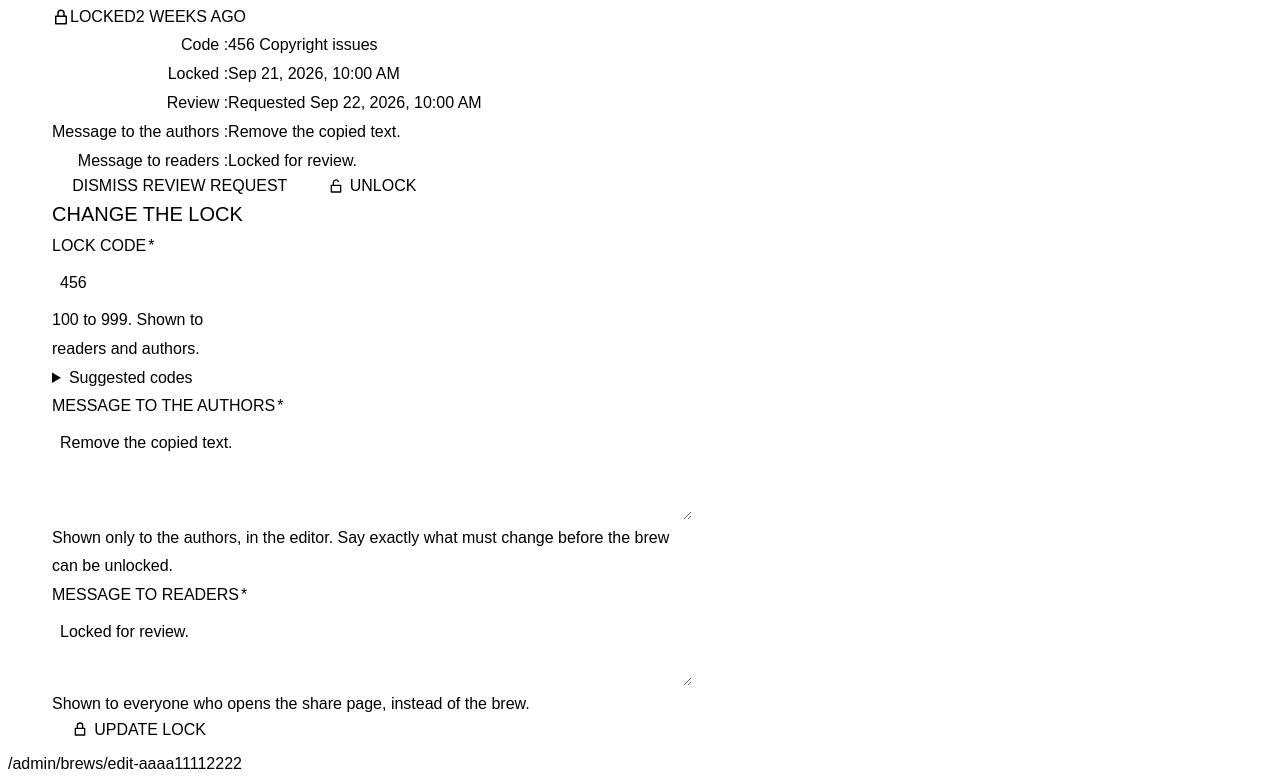
Scenario: lock tools › changes an existing lock (prefilled with it) and clears the review request
This screenshot has width=1280, height=781.
(page scrolled)
Check: the text with test id "admin-lock-code" reads "456 Copyright issues", box [228,36,378,53]
Check: the element with test id "admin-lock-review" shows "Requested", box [228,94,310,111]
Replace the text in the text box labelled "Message to readers*" with "Still locked." at (372, 650), box [52,614,692,686]
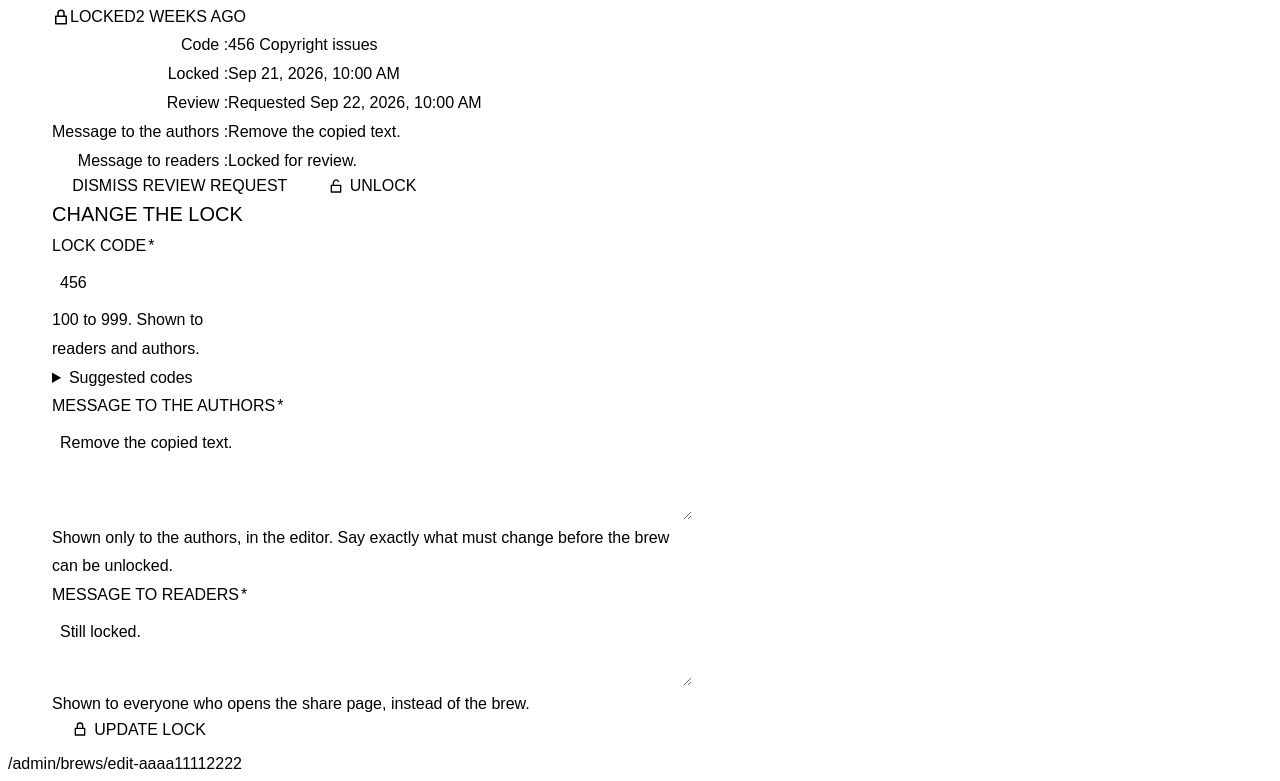
Click the button with test id "admin-lock-submit" at (139, 729), box [52,719,226,740]
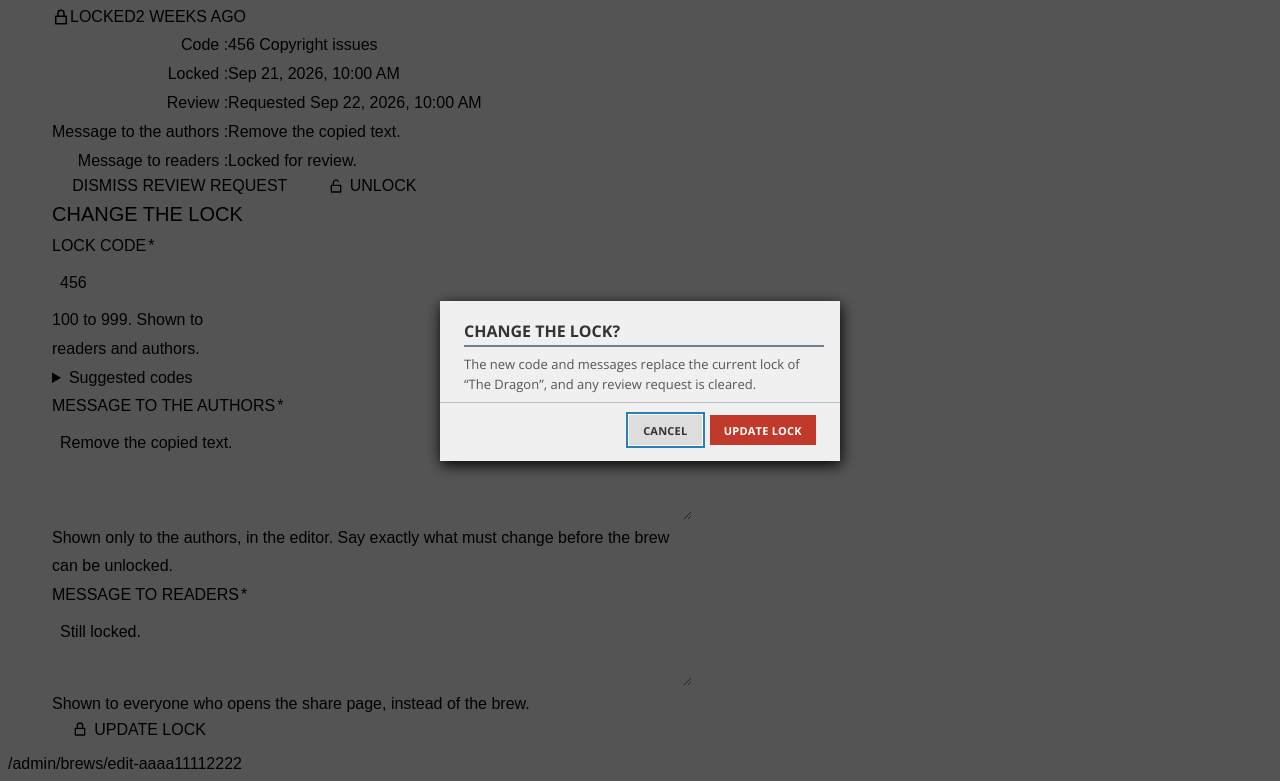
Click the button "Update lock" at (763, 430), box [710,415,816,445]
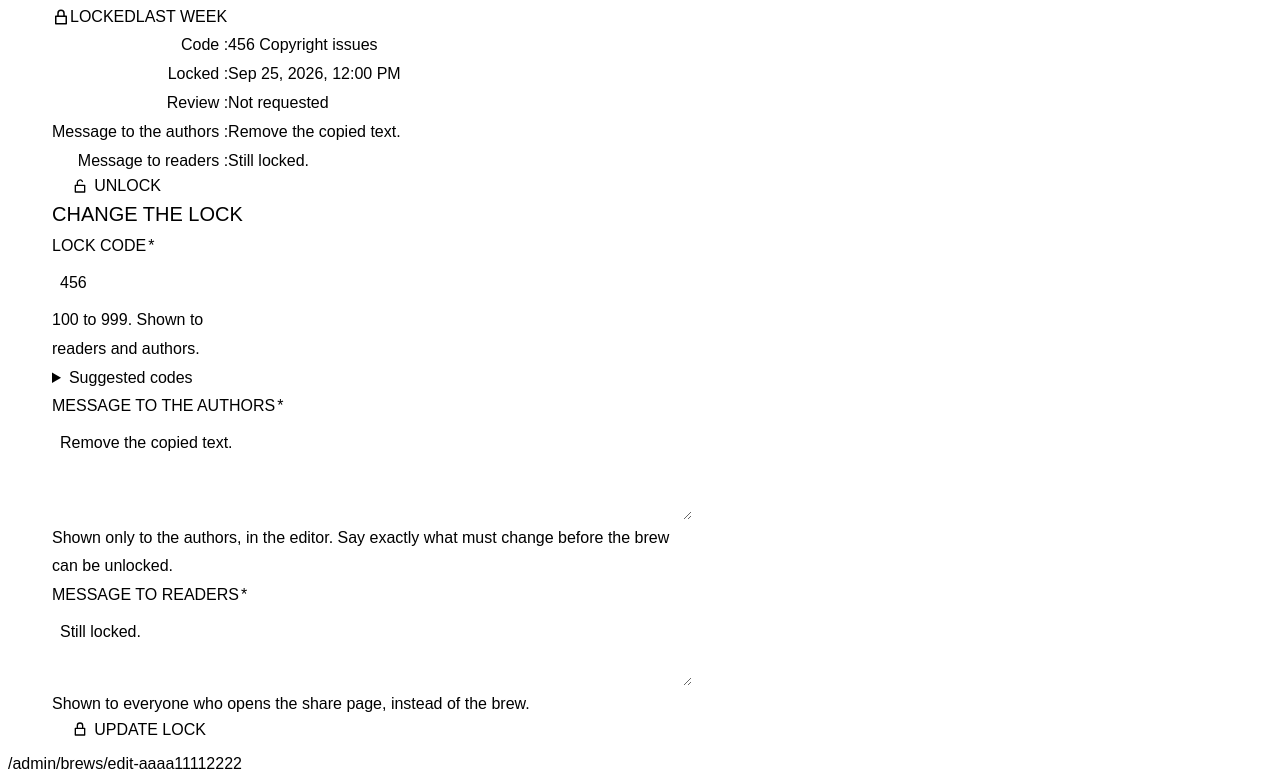
Check: the text with test id "admin-lock-share-message" reads "Still locked.", box [228,152,309,168]
Check: the text with test id "admin-lock-review" reads "Not requested", box [228,94,329,111]
